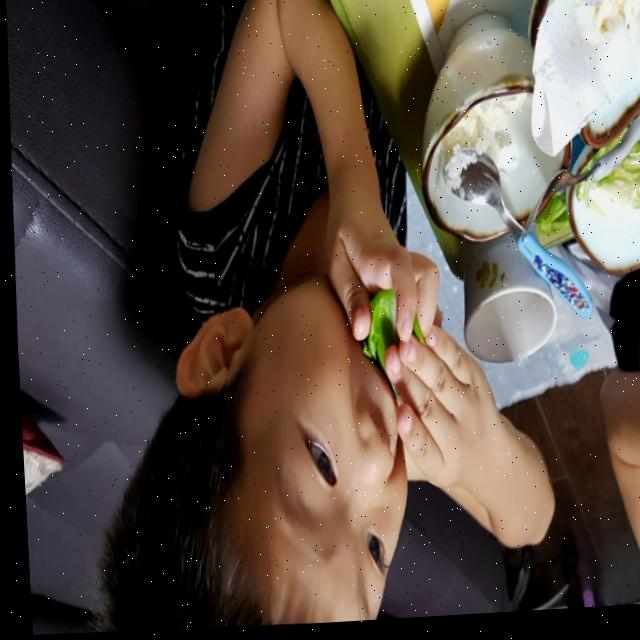eating-person: (62, 0, 589, 637)
